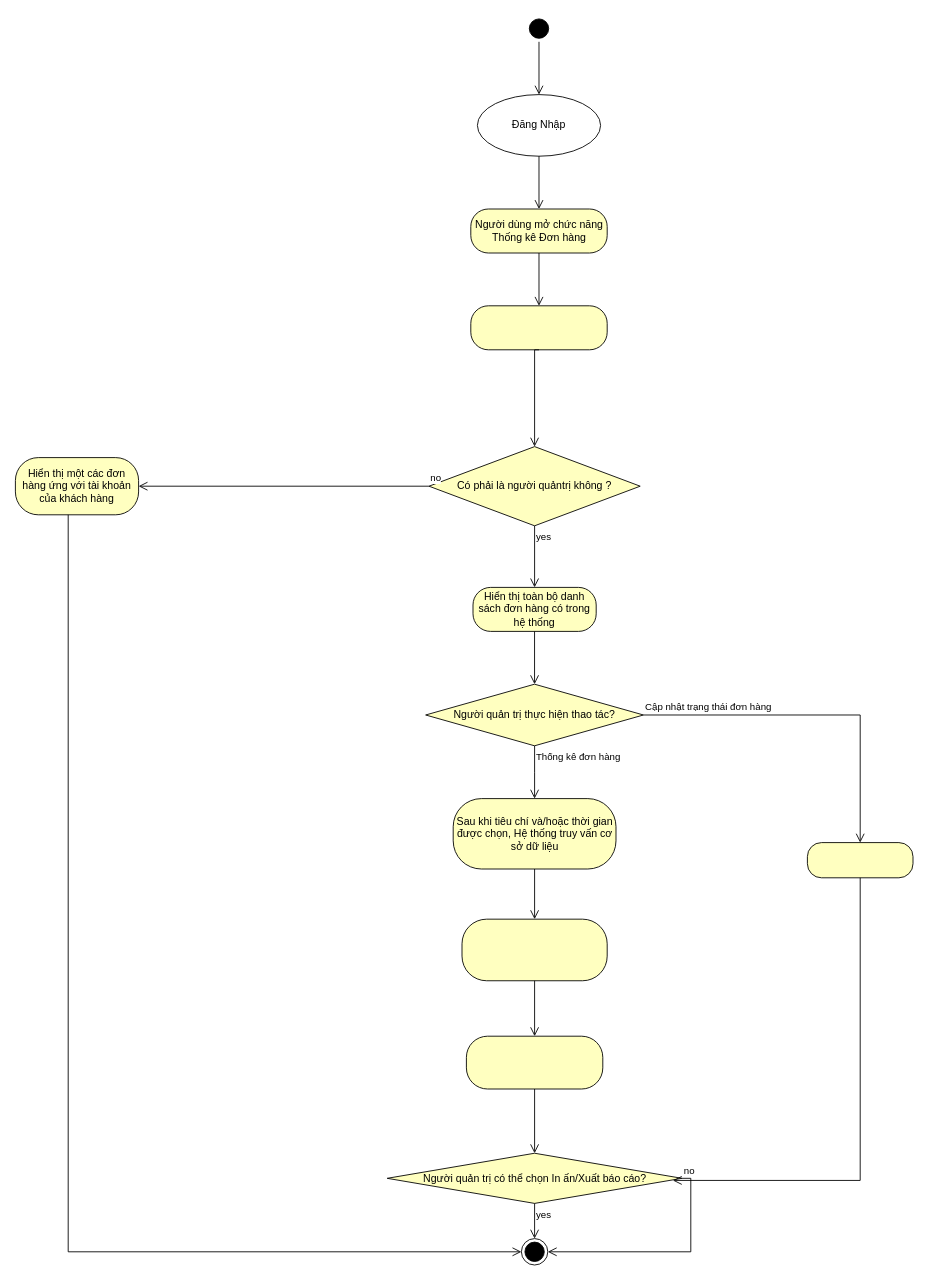
The diagram is 928 pixels wide and 1280 high, and some of its shapes have lost their labels. The shapes that lost their labels are listed below. From the top down, each one's box as (x1, y1, x2, y2) in pixels, then its label:
(470, 305, 607, 350): Hệ thống hiển thị giao diện báo cáo mặc định
(807, 842, 913, 878): Thay đổi trạng thái đơn hàng
(461, 918, 607, 981): Hệ thống thực hiện tính toán, tổng hợp dữ liệu và tạo báo cáo
(466, 1035, 603, 1089): Hệ thống hiển thị kết quả báo cáo dưới dạng bảng biểu và/hoặc đồ thị trực quan
